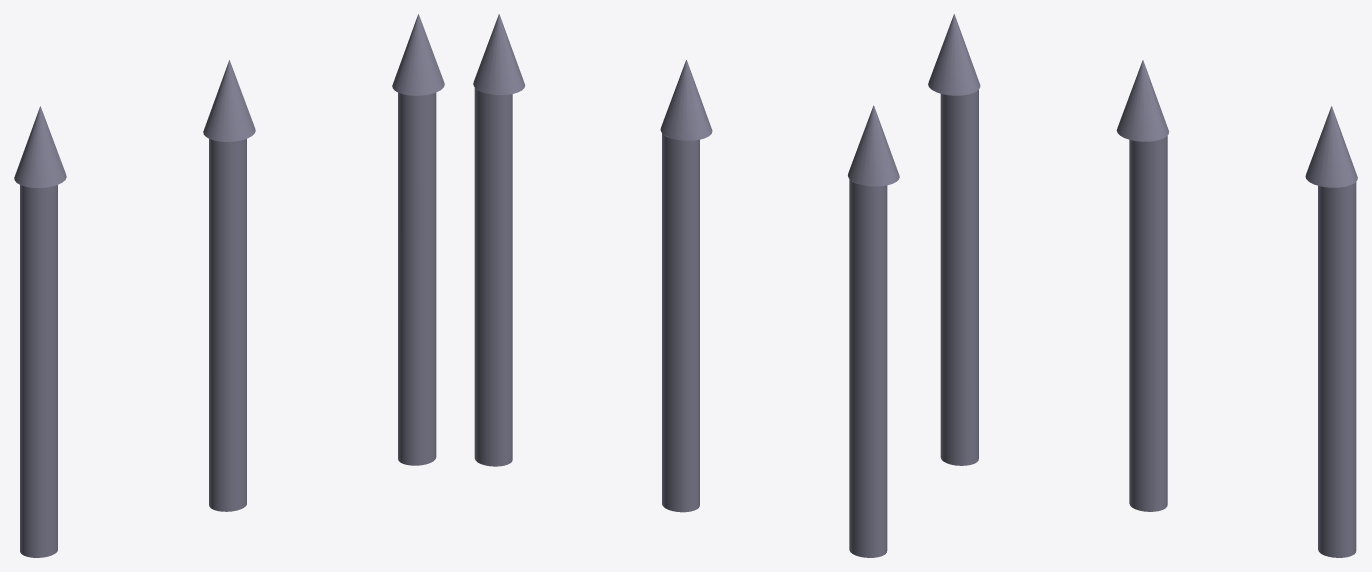
File: ArrowsNew.fbx
3 views of the same model, side by side, from view 1: azimuth 30°, elevation 25°; view 2: azimuth 150°, elevation 25°; view 3: azimuth 330°, elevation 25° (orthographic).
Visible parts, largest first — view 1: cylinder (×3), cone (×3); view 2: cylinder (×3), cone (×3); view 3: cylinder (×3), cone (×3).
Part boxes in pixels (x1,y1,x2,y2): cylinder (×3): (20, 92, 436, 557); cone (×3): (14, 14, 444, 187); cylinder (×3): (474, 87, 887, 557); cone (×3): (473, 14, 899, 186); cylinder (×3): (940, 90, 1356, 557); cone (×3): (928, 14, 1357, 187).
Size of the model in its own units: 22.46 by 22.6 by 2.24.
